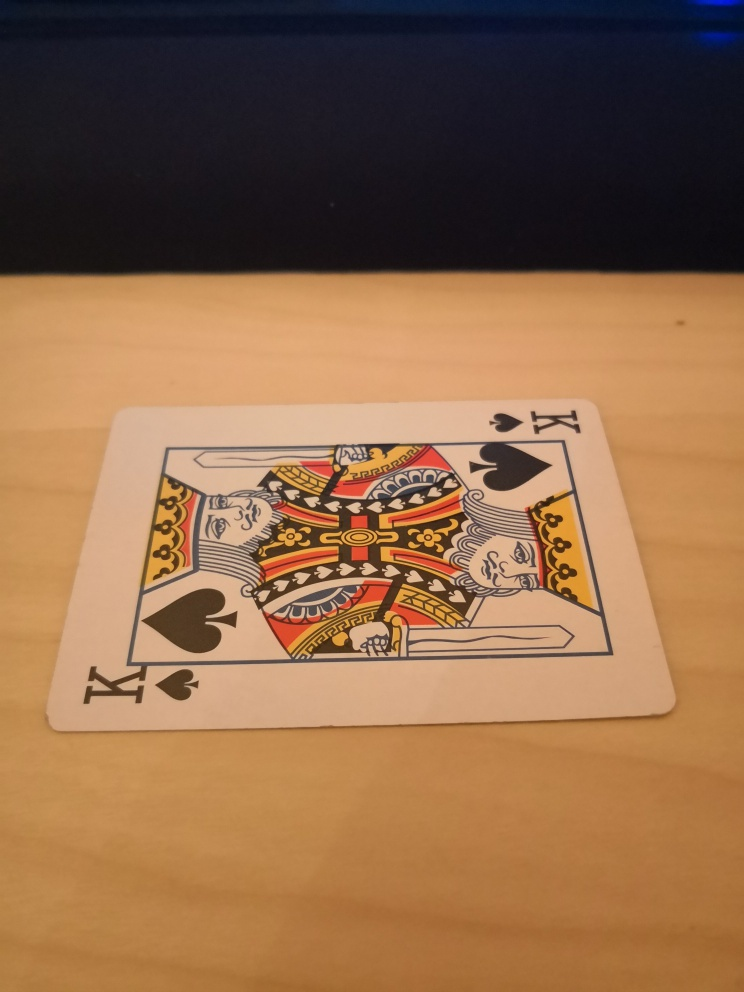king: (45, 398, 677, 734)
